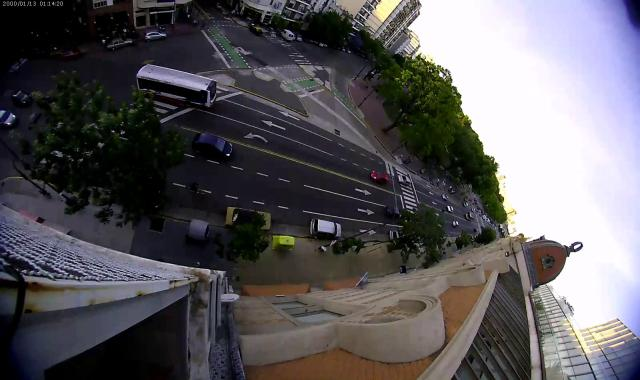bus: (136, 64, 217, 109), (465, 212, 476, 221)
car: (192, 132, 234, 160), (224, 206, 272, 230), (310, 218, 342, 239), (106, 37, 134, 51), (11, 90, 34, 106), (144, 29, 168, 43), (0, 110, 18, 128), (60, 47, 81, 60), (371, 171, 389, 185), (385, 205, 401, 218), (280, 29, 294, 41), (397, 174, 411, 186), (249, 27, 263, 36), (388, 230, 398, 239), (296, 34, 302, 42), (446, 206, 454, 212), (442, 194, 448, 201), (452, 221, 459, 227), (463, 202, 468, 207), (471, 208, 475, 212)
